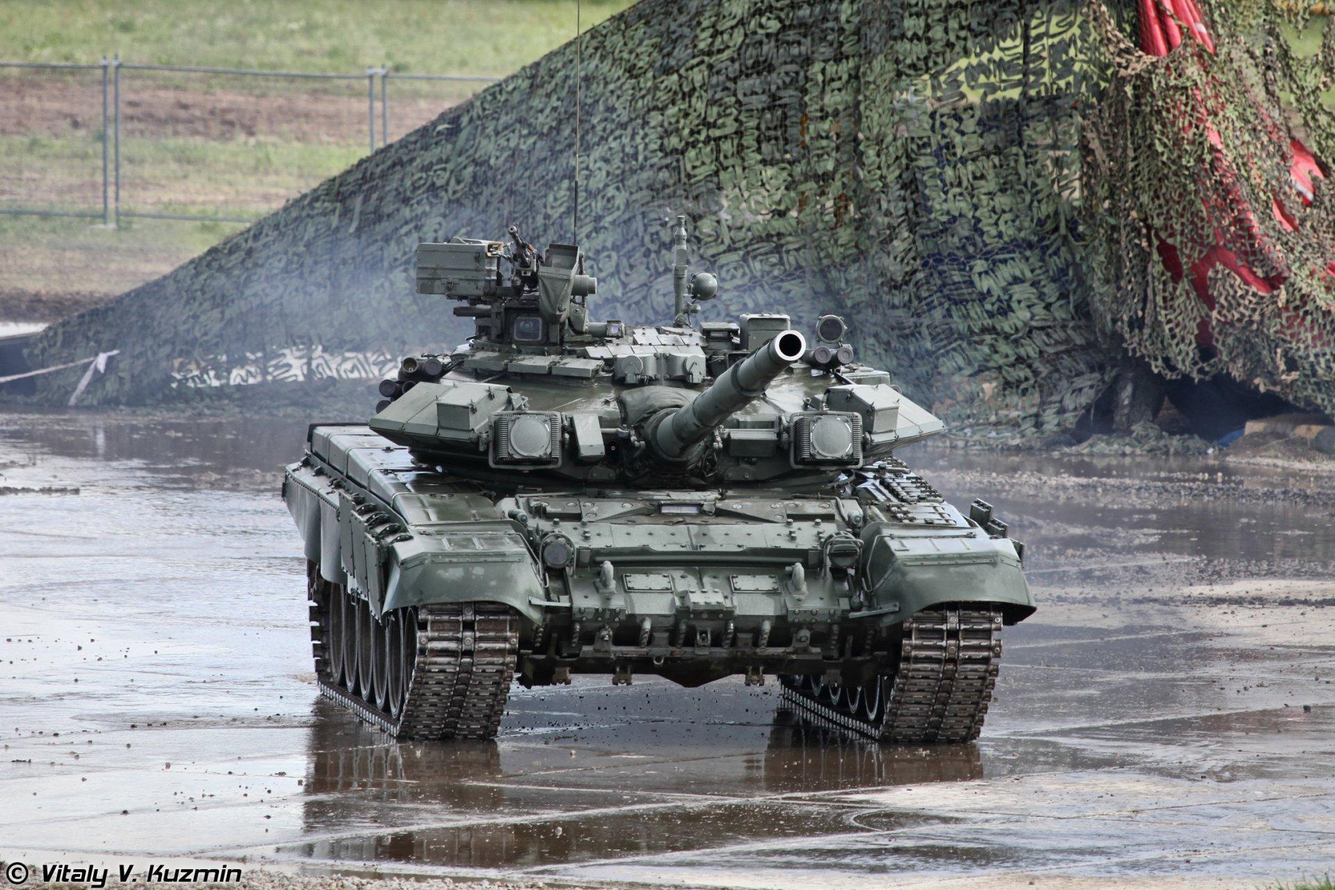tank: (283, 213, 1040, 750)
